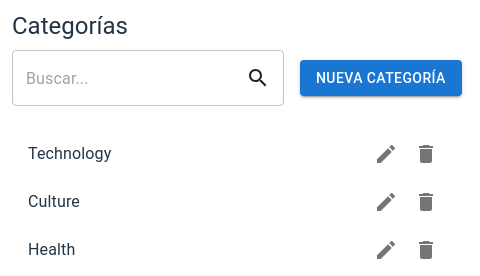
Categories component › filters categories by name
Expected: the text "Technology" is shown, [28,144,112,163]
In the field with placeholder "Buscar...": coordinates (129, 78) [12,50,246,106], type "cul"
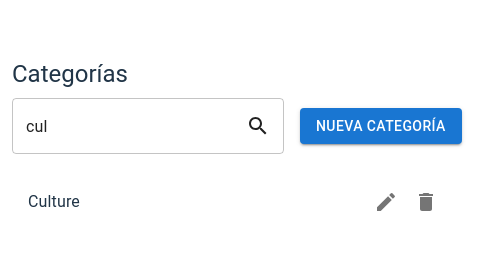
Expected: the text "Culture" is shown, [28,192,80,211]
Expected: the text "Technology" is gone
